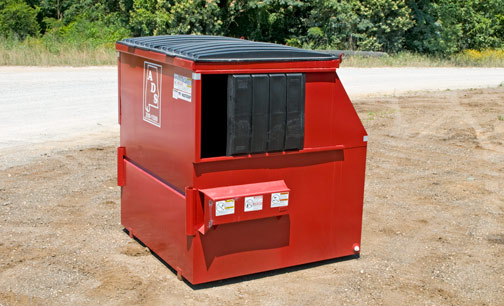Dumpster: (107, 29, 371, 289)
